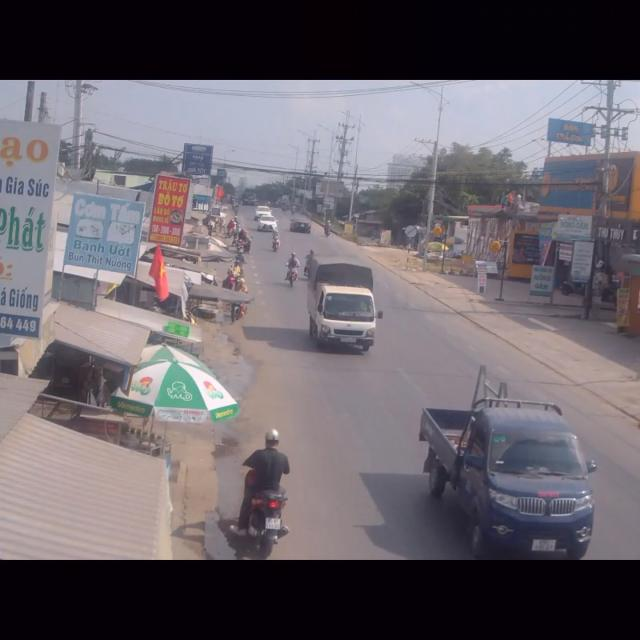motorbike: (224, 426, 292, 560)
truck: (412, 361, 595, 555), (308, 249, 382, 352)
